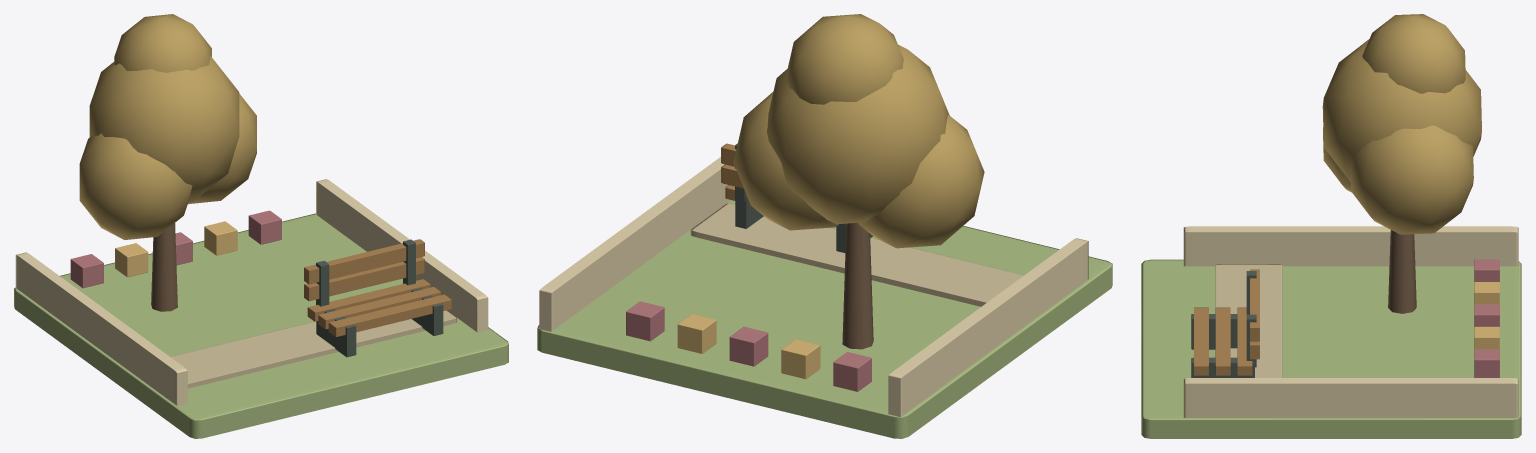
Rendered from park-3.glb.
The picture shows the model from 3 angles, left to right: view 1: azimuth 30°, elevation 25°; view 2: azimuth 150°, elevation 25°; view 3: azimuth 270°, elevation 25°; orthographic projection. The views are drawn at different scales.
Visible parts, largest first — view 1: park-3-0; view 2: park-3-0; view 3: park-3-0.
Boxes of the visible parts, box(x1,y1,x2,y2) form: park-3-0: box(14, 14, 508, 438); park-3-0: box(537, 14, 1112, 438); park-3-0: box(1141, 14, 1521, 438).
Bounding box in the file's own units: 1.93 × 1.75 × 1.93.
